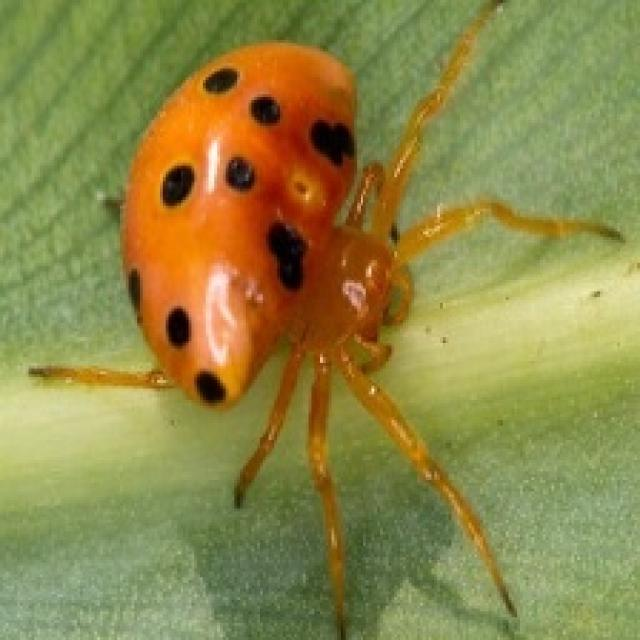Non venomous spider: (29, 15, 612, 621)
